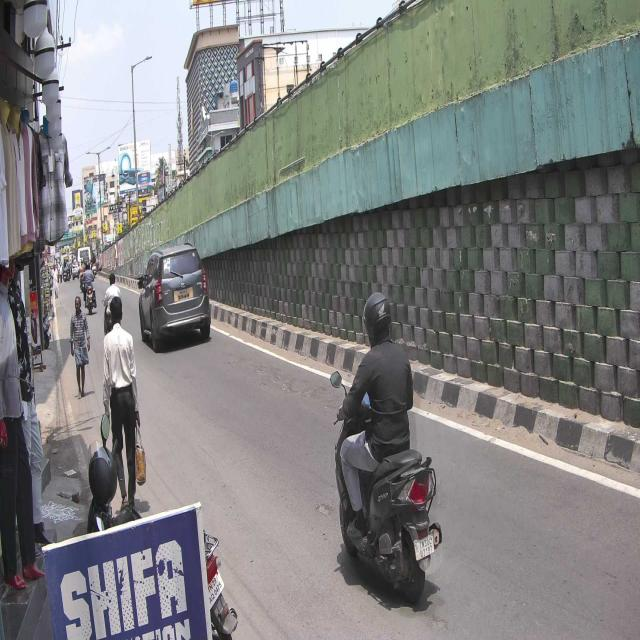single_rider: (330, 290, 441, 604)
